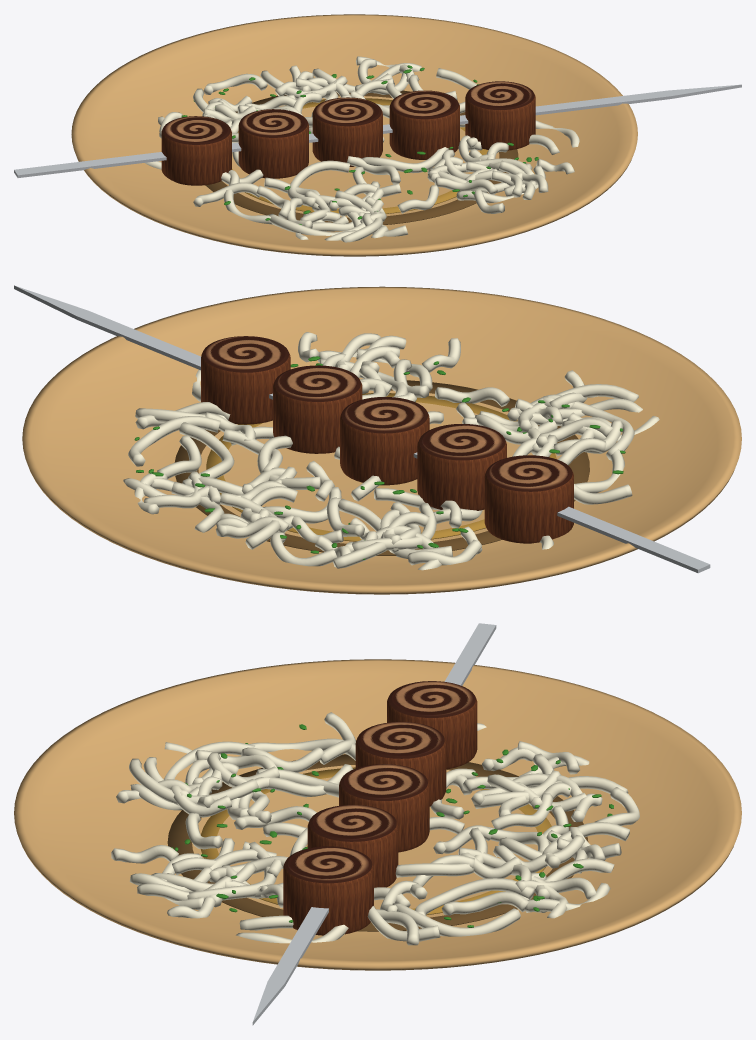
The model's file is mf_rulet.glb.
3 views of the same model, one above another, from view 1: azimuth 30°, elevation 25°; view 2: azimuth 150°, elevation 25°; view 3: azimuth 270°, elevation 25° (orthographic). The views are drawn at different scales.
Parts seen in each view (by area): view 1: plate, rulet, rulet.001, rulet.003, rulet.004, rulet.002, skewer, orn_ring, onion.037, orn_gold, onion.038, onion.081 (+17 smaller); view 2: plate, rulet, rulet.002, rulet.004, rulet.003, rulet.001, skewer, orn_ring, orn_gold, onion.027, onion.028, onion.081 (+36 smaller); view 3: plate, rulet.004, rulet.002, rulet, rulet.003, rulet.001, orn_ring, skewer, orn_gold, onion.002, onion.028, onion.003 (+37 smaller).
Boxes of the visible parts, bbox=[...] form: plate: bbox=[71, 14, 637, 256]; rulet: bbox=[161, 116, 231, 185]; rulet.001: bbox=[238, 109, 308, 178]; rulet.003: bbox=[389, 90, 459, 159]; rulet.004: bbox=[465, 81, 535, 150]; rulet.002: bbox=[312, 97, 382, 166]; skewer: bbox=[14, 84, 741, 177]; orn_ring: bbox=[205, 90, 518, 224]; onion.037: bbox=[287, 160, 349, 207]; orn_gold: bbox=[231, 98, 488, 215]; onion.038: bbox=[362, 147, 448, 173]; onion.081: bbox=[335, 190, 382, 242]; plate: bbox=[22, 286, 741, 594]; rulet: bbox=[484, 455, 573, 543]; rulet.002: bbox=[340, 397, 429, 485]; rulet.004: bbox=[201, 336, 290, 424]; rulet.003: bbox=[273, 365, 362, 453]; rulet.001: bbox=[417, 424, 506, 510]; skewer: bbox=[14, 285, 710, 573]; orn_ring: bbox=[174, 380, 589, 555]; orn_gold: bbox=[206, 393, 556, 541]; onion.027: bbox=[333, 498, 386, 568]; onion.028: bbox=[128, 416, 220, 466]; onion.081: bbox=[517, 384, 638, 432]; plate: bbox=[14, 659, 741, 970]; rulet.004: bbox=[283, 846, 373, 935]; rulet.002: bbox=[339, 764, 429, 852]; rulet: bbox=[387, 681, 477, 769]; rulet.003: bbox=[307, 805, 398, 887]; rulet.001: bbox=[355, 721, 446, 806]; orn_ring: bbox=[167, 754, 588, 931]; skewer: bbox=[252, 623, 496, 1025]; orn_gold: bbox=[200, 767, 551, 914]; onion.002: bbox=[414, 878, 534, 915]; onion.028: bbox=[392, 902, 520, 936]; onion.003: bbox=[395, 827, 487, 877].
Bounding box in the file's own units: 1.17 × 0.1075 × 0.9.
Materials: 8 (2 with a texture image).
